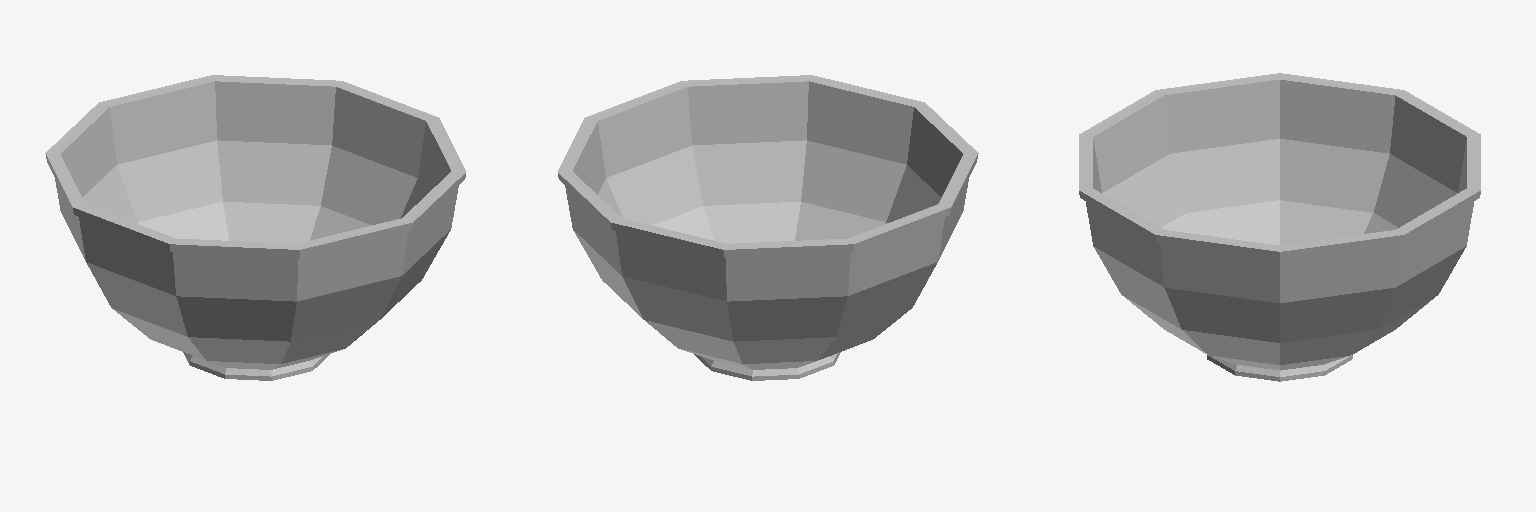
The model's file is bowl.obj.
3 renders of one model, left to right at view 1: azimuth 30°, elevation 25°; view 2: azimuth 150°, elevation 25°; view 3: azimuth 270°, elevation 25°, orthographic.
Visible parts, largest first — view 1: pSphere3; view 2: pSphere3; view 3: pSphere3.
Boxes of the visible parts, box(x1,y1,x2,y2) form: pSphere3: box(45, 75, 465, 380); pSphere3: box(558, 75, 978, 380); pSphere3: box(1079, 73, 1480, 381).
Size of the model in its own units: 2.05 by 0.9991 by 1.95.